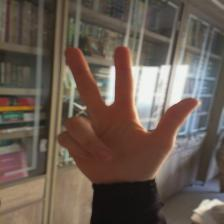three: (41, 34, 210, 196)
